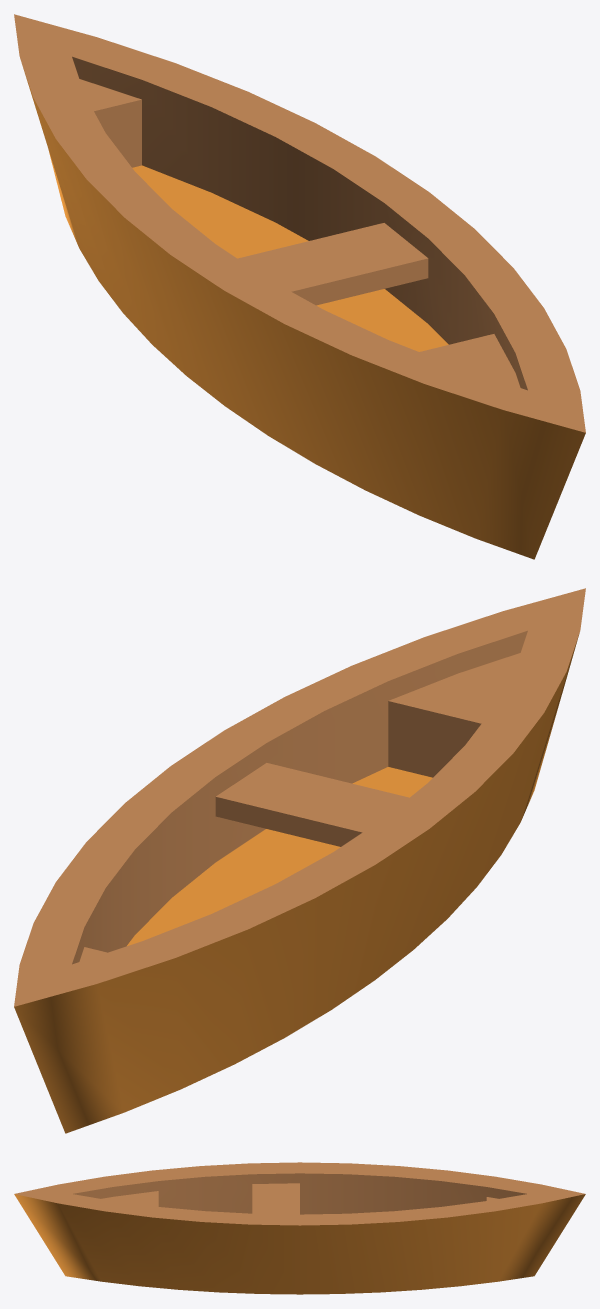
File: canoe.glb
The picture shows the model from 3 angles, top to bottom: view 1: azimuth 30°, elevation 25°; view 2: azimuth 150°, elevation 25°; view 3: azimuth 270°, elevation 25°; orthographic projection. The views are drawn at different scales.
Parts seen in each view (by area): view 1: canoe; view 2: canoe; view 3: canoe.
Part boxes in pixels (x1,y1,x2,y2): canoe: (14,14,585,559); canoe: (14,588,585,1133); canoe: (14,1162,585,1294).
Size of the model in its own units: 1.2 by 0.73 by 4.6.
